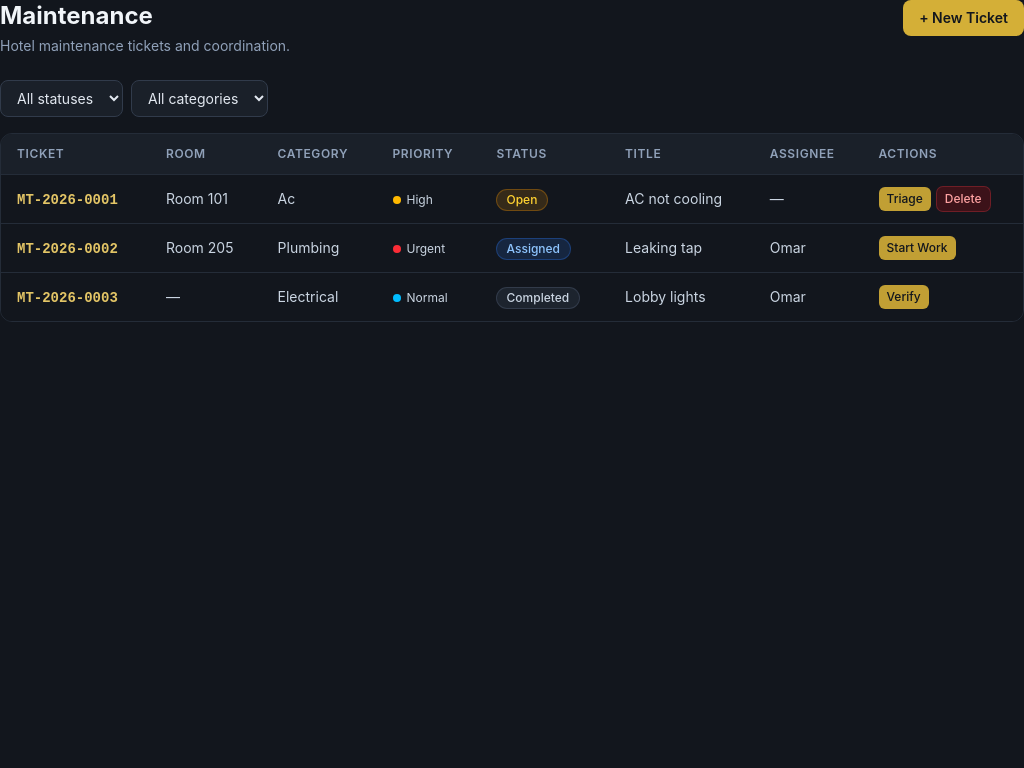
Test: MaintenancePage › opens create modal and validates required fields
Expected: the text "MT-2026-0001" is shown, left=17, top=192, right=118, bottom=208
Click the button "+ New Ticket" at (964, 18), box left=903, top=0, right=1023, bottom=36
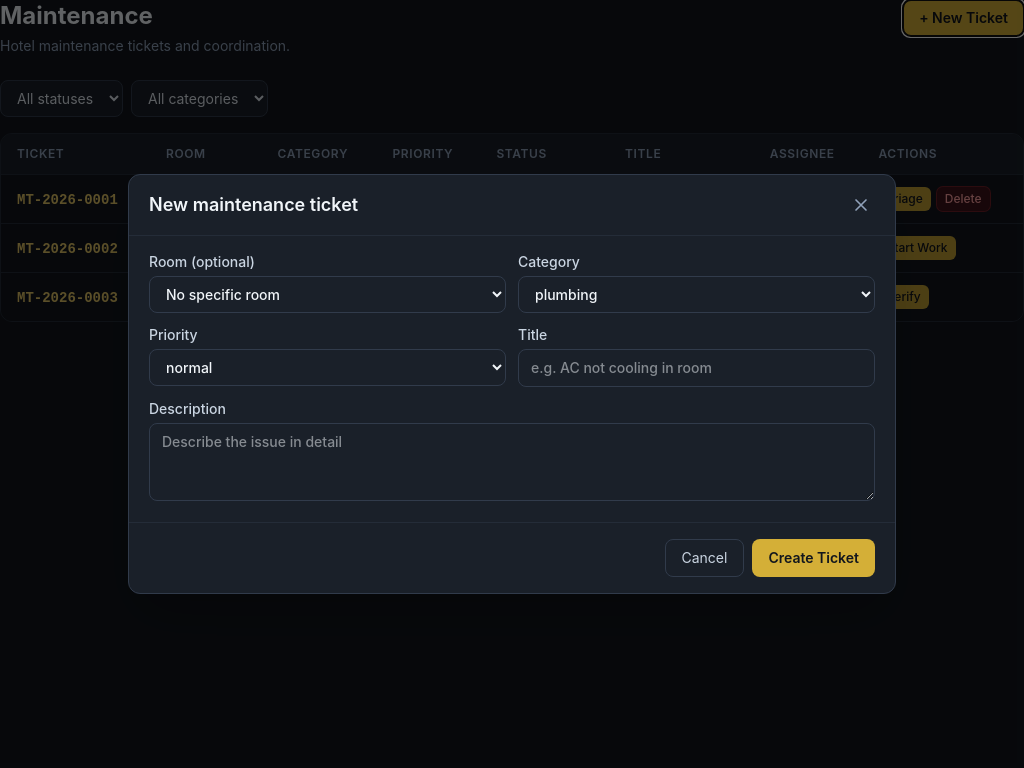
Now the dialog is shown
# Submit without title → validation error
Click the button "Create Ticket" at (814, 558), box left=752, top=539, right=875, bottom=577
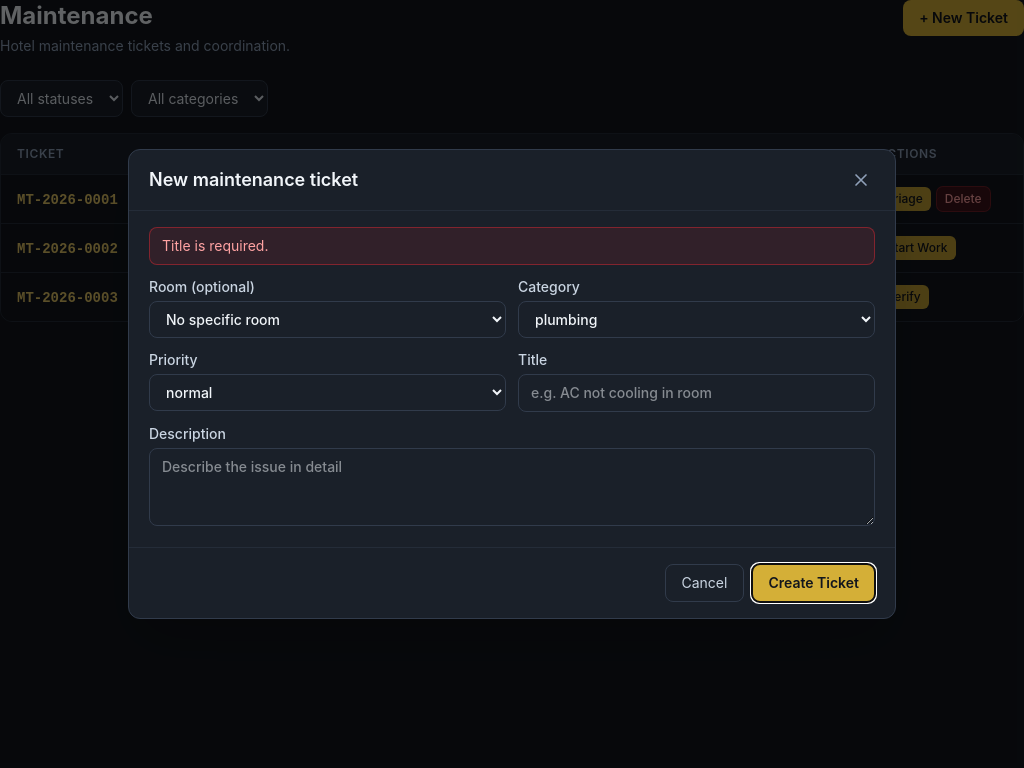
Now the text "Title is required." is shown, box left=149, top=227, right=875, bottom=265
